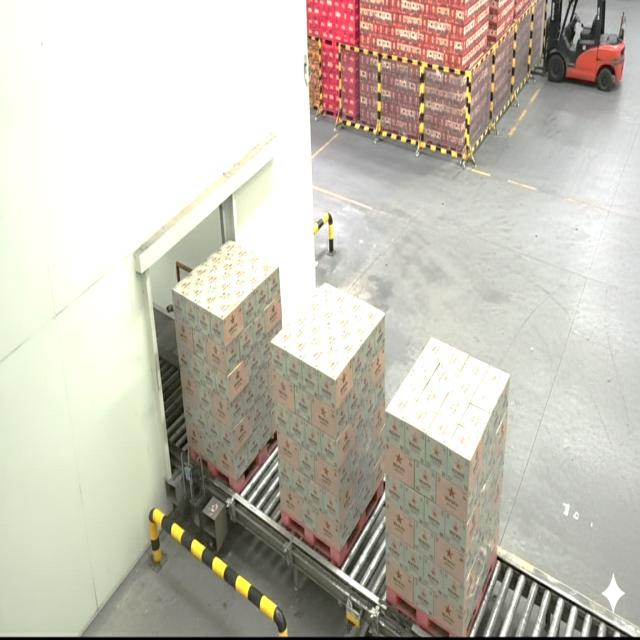pallet: (385, 334, 512, 638), (270, 278, 382, 576), (170, 233, 278, 488)
